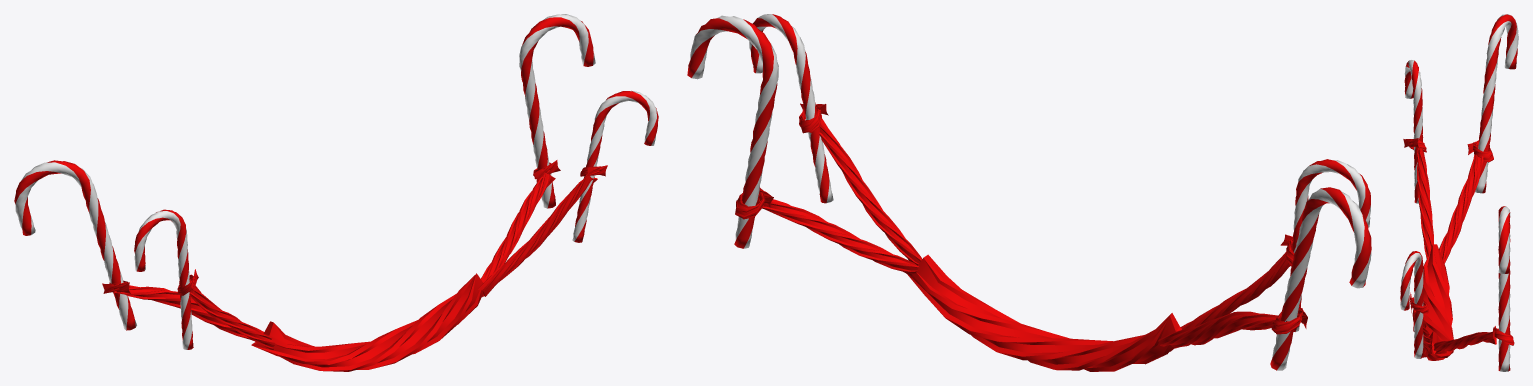
The model's file is bridge.fbx.
3 renders of one model, left to right at view 1: azimuth 30°, elevation 25°; view 2: azimuth 150°, elevation 25°; view 3: azimuth 270°, elevation 25°, orthographic. The views are drawn at different scales.
Parts seen in each view (by area): view 1: candy_Cane1; view 2: candy_Cane1; view 3: candy_Cane1.
Boxes of the visible parts, box(x1,y1,x2,y2) form: candy_Cane1: box(14, 14, 658, 371); candy_Cane1: box(687, 14, 1371, 371); candy_Cane1: box(1400, 14, 1518, 371).
Bounding box in the file's own units: 14.1 × 6.13 × 2.87.
